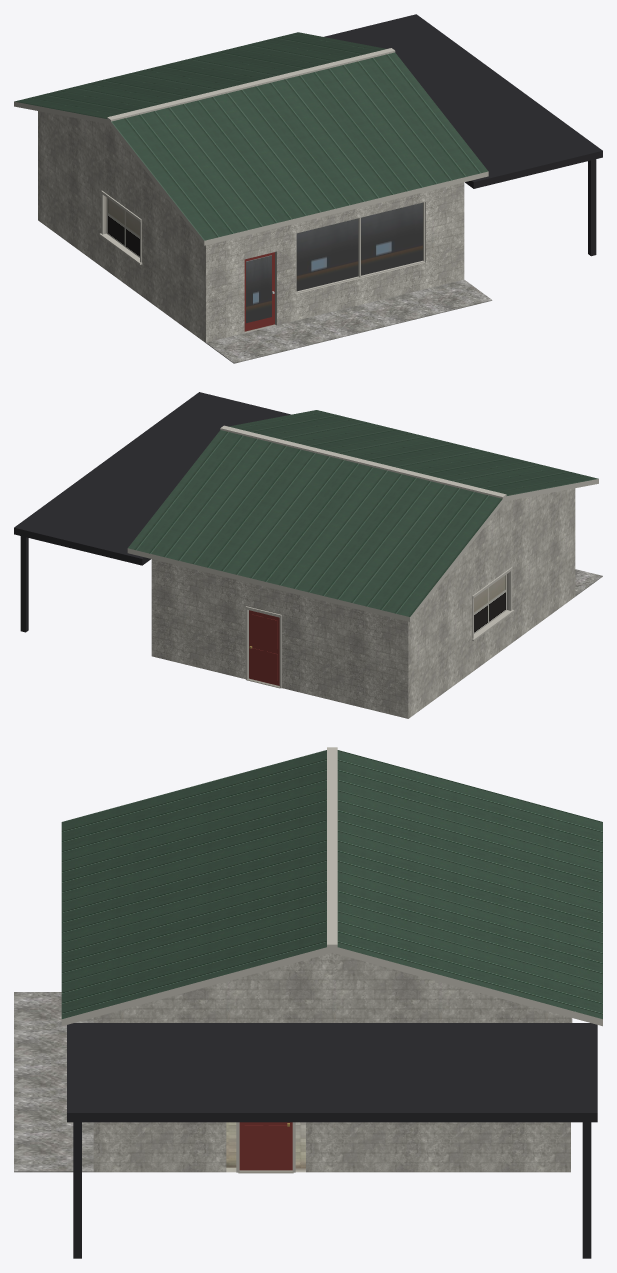
Rendered from town_motel_office 2.gltf.
The picture shows the model from 3 angles, top to bottom: view 1: azimuth 30°, elevation 25°; view 2: azimuth 150°, elevation 25°; view 3: azimuth 270°, elevation 25°; orthographic projection. The views are drawn at different scales.
Visible parts, largest first — view 1: TownMotelOffice_Roof, TownMotelOffice_Walls, TownMotelOffice_Carport, TownMotelOffice_Window, TownMotelOffice_Walk, TownMotelOffice_Fascia, TownMotelOffice_Ridge, TownMotelOffice_Door_1_Glass, TownMotelOffice_CarportPosts, TownMotelOffice_Frames, TownMotelOffice_Door_1_Leaf, TownMotelOffice_Trim (+1 smaller); view 2: TownMotelOffice_Roof, TownMotelOffice_Walls, TownMotelOffice_Carport, TownMotelOffice_Fascia, TownMotelOffice_ClosedDoor, TownMotelOffice_Ridge, TownMotelOffice_Trim, TownMotelOffice_Window, TownMotelOffice_CarportPosts; view 3: TownMotelOffice_Roof, TownMotelOffice_Carport, TownMotelOffice_Walls, TownMotelOffice_Walk, TownMotelOffice_Fascia, TownMotelOffice_ClosedDoor, TownMotelOffice_CarportPosts, TownMotelOffice_Ridge, TownMotelOffice_LobbyFloor.
Part boxes in pixels (x1,y1,x2,y2): TownMotelOffice_Roof: [14, 32, 488, 240]; TownMotelOffice_Walls: [38, 111, 464, 342]; TownMotelOffice_Carport: [324, 14, 602, 188]; TownMotelOffice_Window: [106, 197, 422, 291]; TownMotelOffice_Walk: [206, 279, 492, 363]; TownMotelOffice_Fascia: [14, 101, 488, 245]; TownMotelOffice_Ridge: [107, 48, 395, 121]; TownMotelOffice_Door_1_Glass: [246, 255, 271, 323]; TownMotelOffice_CarportPosts: [588, 159, 596, 256]; TownMotelOffice_Frames: [296, 202, 424, 293]; TownMotelOffice_Door_1_Leaf: [244, 252, 274, 331]; TownMotelOffice_Trim: [99, 190, 142, 264]; TownMotelOffice_Roof: [128, 410, 598, 616]; TownMotelOffice_Walls: [151, 488, 575, 718]; TownMotelOffice_Carport: [14, 392, 290, 565]; TownMotelOffice_Fascia: [127, 479, 598, 621]; TownMotelOffice_ClosedDoor: [249, 610, 279, 685]; TownMotelOffice_Ridge: [220, 425, 506, 498]; TownMotelOffice_Trim: [245, 567, 514, 688]; TownMotelOffice_Window: [474, 574, 506, 633]; TownMotelOffice_CarportPosts: [20, 536, 28, 632]; TownMotelOffice_Roof: [61, 750, 602, 1019]; TownMotelOffice_Carport: [67, 1023, 597, 1122]; TownMotelOffice_Walls: [93, 952, 570, 1172]; TownMotelOffice_Walk: [14, 992, 93, 1172]; TownMotelOffice_Fascia: [61, 947, 602, 1026]; TownMotelOffice_ClosedDoor: [239, 1122, 292, 1170]; TownMotelOffice_CarportPosts: [73, 1122, 591, 1258]; TownMotelOffice_Ridge: [327, 747, 337, 946]; TownMotelOffice_LobbyFloor: [226, 1122, 305, 1167].
Size of what is drawn, in the model's own units: 12.4 by 4.92 by 11.1.
Materials: 2 (2 with a texture image).
